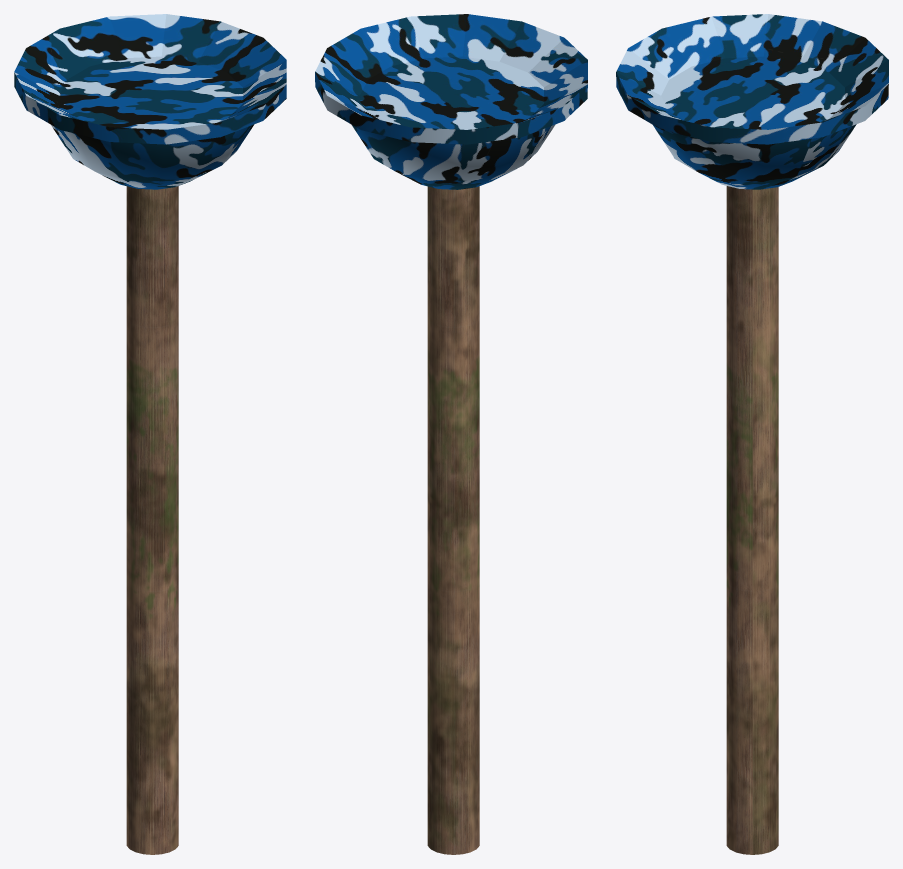
Rendered from Desatascador_bluecamo.FBX.
3 renders of one model, left to right at view 1: azimuth 30°, elevation 25°; view 2: azimuth 150°, elevation 25°; view 3: azimuth 270°, elevation 25°, orthographic.
Visible parts, largest first — view 1: Desatascador, Palo; view 2: Desatascador, Palo; view 3: Desatascador, Palo.
Part boxes in pixels (x1=…): Desatascador: x1=14, y1=14, x2=286, y2=189; Palo: x1=126, y1=186, x2=178, y2=854; Desatascador: x1=315, y1=14, x2=587, y2=189; Palo: x1=427, y1=186, x2=479, y2=854; Desatascador: x1=616, y1=14, x2=888, y2=189; Palo: x1=726, y1=186, x2=778, y2=854.
Size of the model in its own units: 0.8388 by 2.6 by 0.8342.
Materials: 2 (2 with a texture image).
